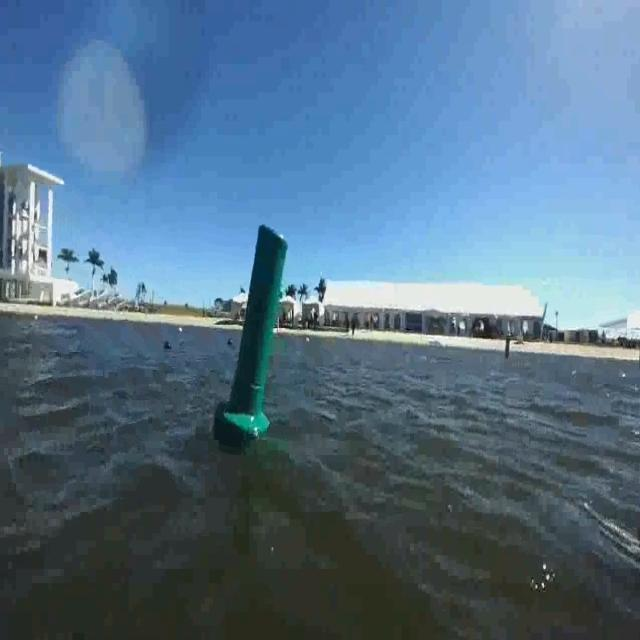green-column-buoy: (222, 224, 292, 435)
